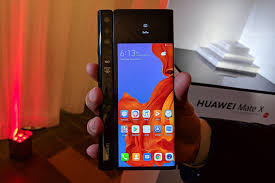huawei: (110, 5, 178, 171)
